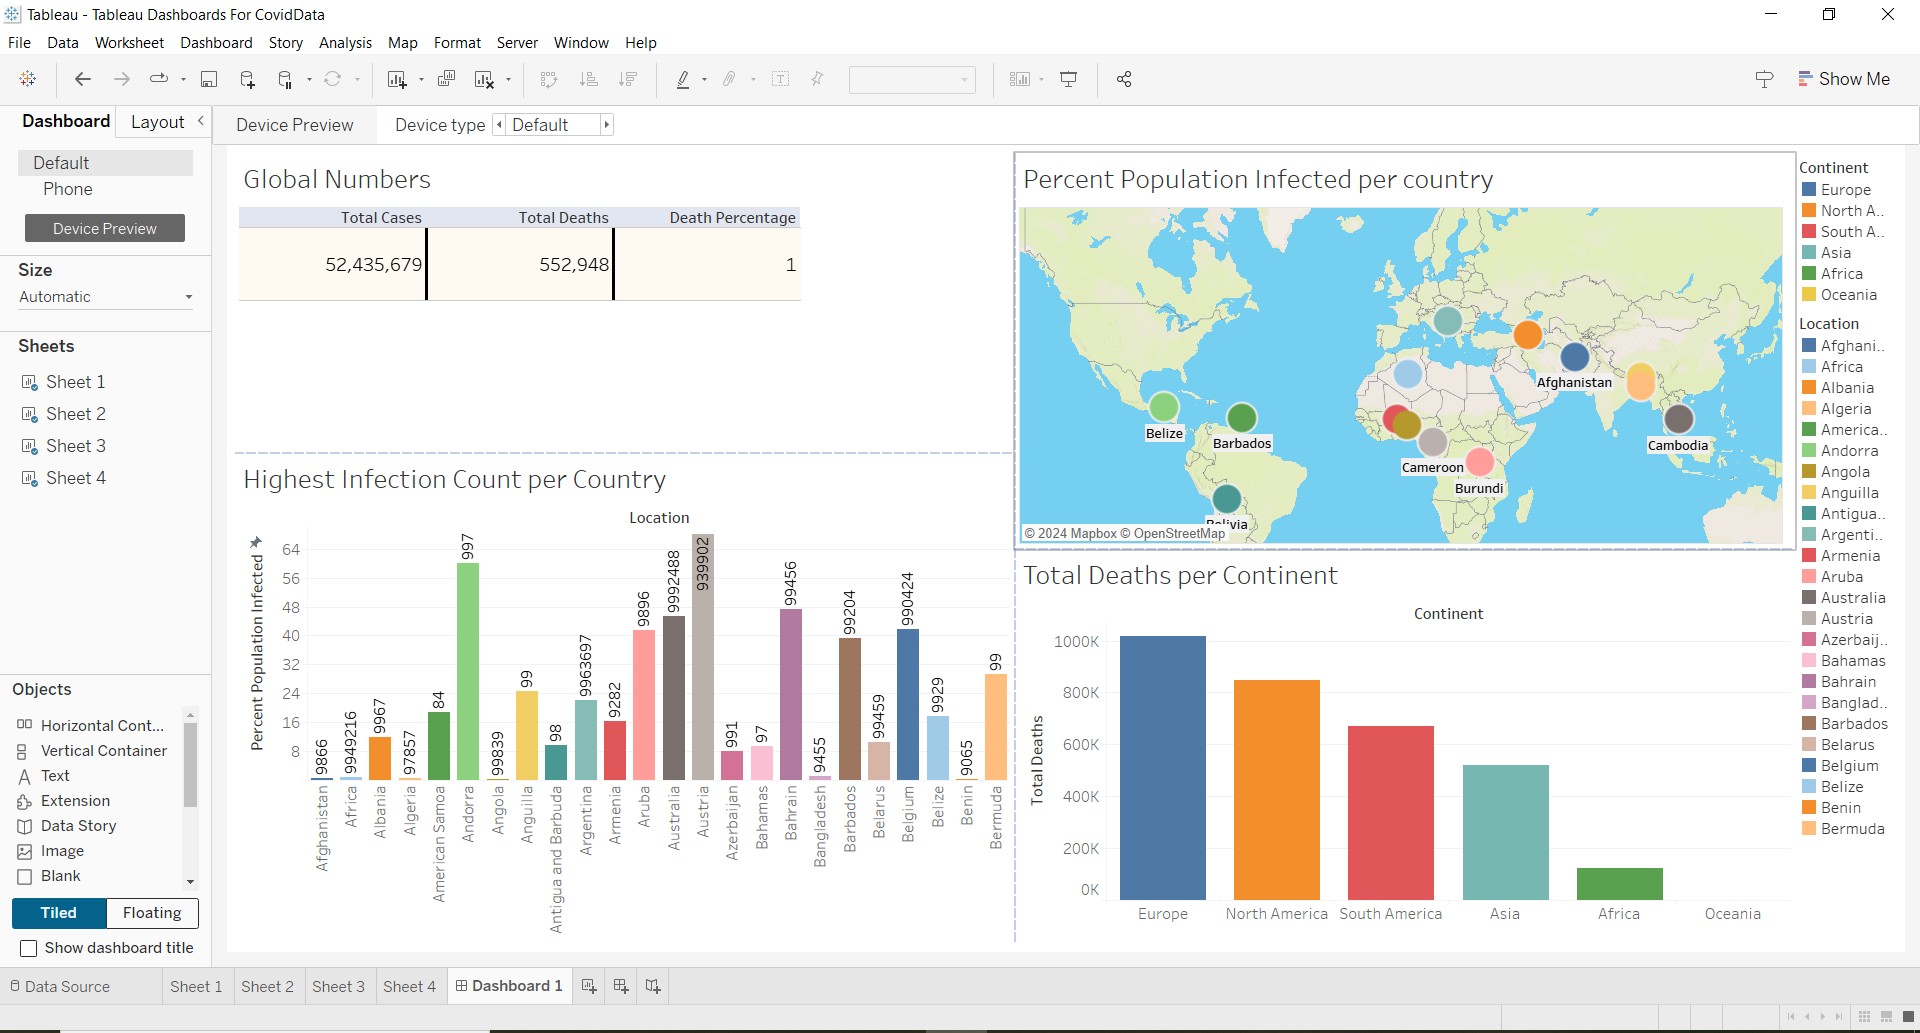

What the dashboard file says about the page in this screenshot:
{"tool":"tableau","page":{"name":"Dashboard 1","canvas":[1000,1000],"units":"permille","ordinal":0},"visuals":[{"type":"worksheet","title":"Sheet 1","mark":"Automatic","box":[4.9,9.9,463.8,371.8]},{"type":"worksheet","title":"Sheet 3","mark":"Automatic","box":[468.7,9.9,463.8,490.1]},{"type":"legend","title":"Sheet 2","param":"[federated.1x8koav0o2x7xe1e62nez1dtc8xd].[none:continent:nk]","box":[932.4,9.9,62.6,193.3]},{"type":"legend","title":"Sheet 4","param":"[federated.0bsn57z0uszryl10t1ong1gxzznh].[none:Location:nk]","box":[932.4,203.2,62.6,661.7]},{"type":"worksheet","title":"Sheet 4","mark":"Automatic","rows":["PercentPopulationInfected"],"cols":["Location"],"box":[4.9,381.7,463.8,608.4]},{"type":"worksheet","title":"Sheet 2","mark":"Automatic","rows":["Total_Deaths"],"cols":["continent"],"box":[468.7,500,463.8,490.1]}]}

Visuals, with their boxes on the dashboard's canvas, which has no fixed pixel size, in thousandths of its width and height (x1, y1, x2, y2). These are canvas units, not pixel positions in the 1920x1033 screenshot, which may show the page scaled, cropped or inside an application window:
"Sheet 1" worksheet: {"x1": 5, "y1": 10, "x2": 469, "y2": 382}
"Sheet 3" worksheet: {"x1": 469, "y1": 10, "x2": 932, "y2": 500}
"Sheet 2" legend: {"x1": 932, "y1": 10, "x2": 995, "y2": 203}
"Sheet 4" legend: {"x1": 932, "y1": 203, "x2": 995, "y2": 865}
"Sheet 4" worksheet: {"x1": 5, "y1": 382, "x2": 469, "y2": 990}
"Sheet 2" worksheet: {"x1": 469, "y1": 500, "x2": 932, "y2": 990}
